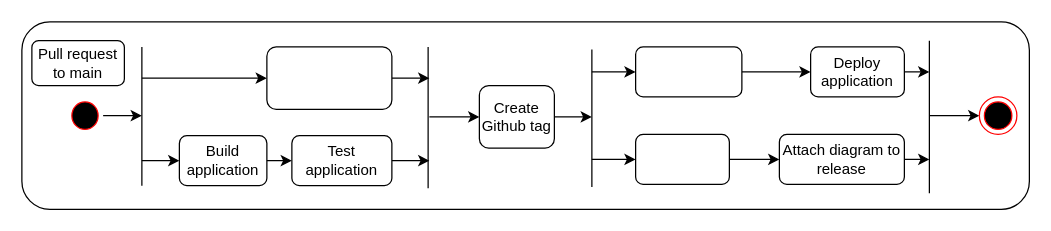
Some shapes in this 1051 by 231 pixel diagram are drawn without their labels. The shapes that lost their labels are listed below. From the top down, each one's centre as x and y in pixels, then its label:
At (x=329, y=77): "Check for warnings in application".
At (x=688, y=71): "Build docker images".
At (x=681, y=158): "Create Releas".
